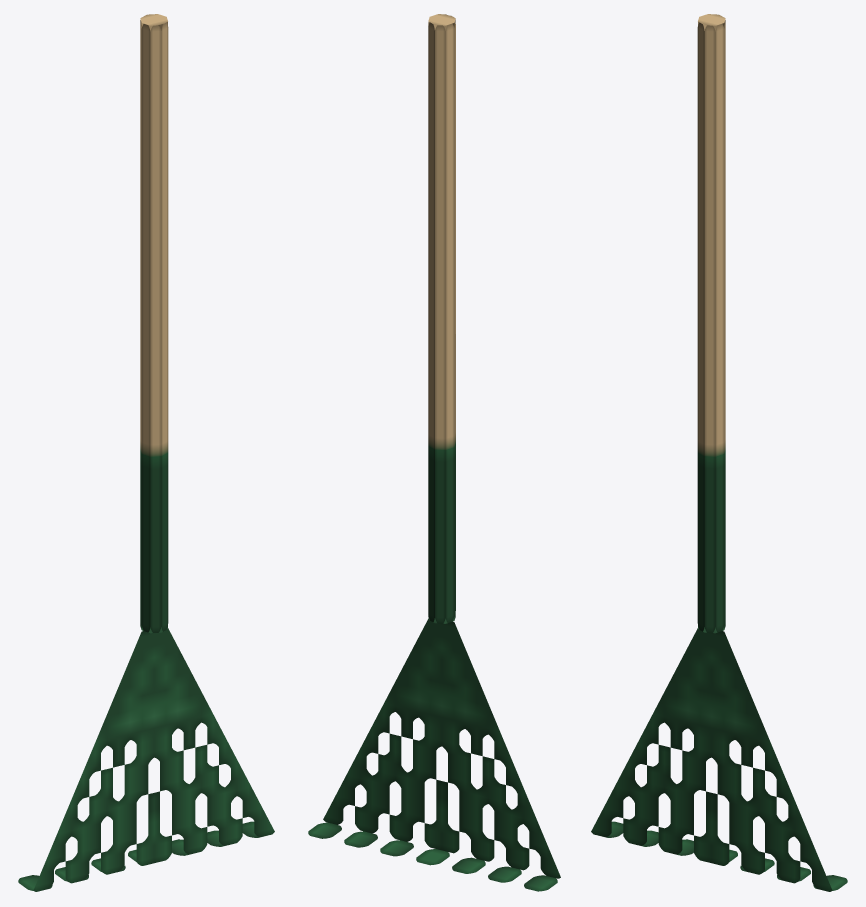
Rendered from Rake.fbx.
3 renders of one model, left to right at view 1: azimuth 30°, elevation 25°; view 2: azimuth 150°, elevation 25°; view 3: azimuth 330°, elevation 25°, orthographic.
Visible parts, largest first — view 1: Rake; view 2: Rake; view 3: Rake.
Part boxes in pixels (bbox=[...]): Rake: bbox=[18, 14, 274, 891]; Rake: bbox=[308, 14, 560, 891]; Rake: bbox=[591, 14, 847, 891].
Size of the model in its own units: 64.51 by 214 by 11.77.
1 material, 1 textured.
